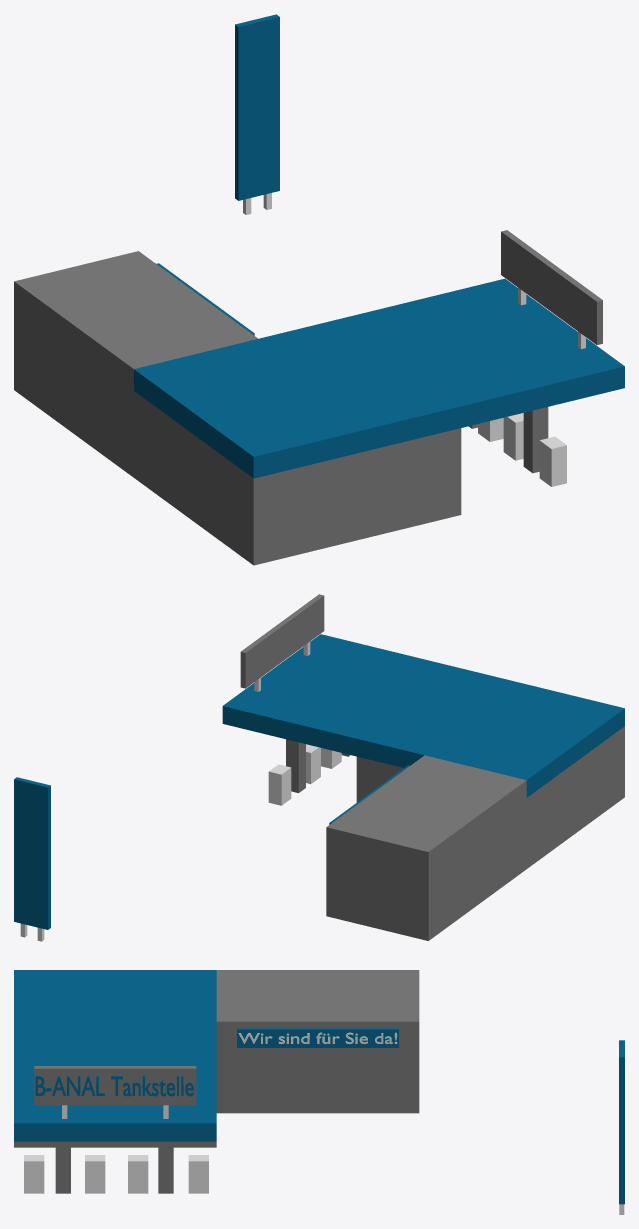
The model's file is Tankstelle.fbx.
The picture shows the model from 3 angles, top to bottom: view 1: azimuth 30°, elevation 25°; view 2: azimuth 150°, elevation 25°; view 3: azimuth 270°, elevation 25°; orthographic projection. The views are drawn at different scales.
Visible parts, largest first — view 1: Tankstelle; view 2: Tankstelle; view 3: Tankstelle.
Boxes of the visible parts, x1=… form: Tankstelle: x1=14, y1=14, x2=624, y2=565; Tankstelle: x1=14, y1=594, x2=624, y2=941; Tankstelle: x1=14, y1=970, x2=624, y2=1214.
Size of the model in its own units: 3700 by 1775 by 6030.
